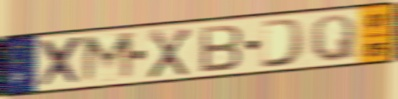B: (198, 23, 245, 74)
D: (258, 16, 309, 70)
M: (79, 30, 137, 86)
Q: (309, 13, 358, 64)
X: (38, 34, 87, 90), (146, 26, 193, 81)
